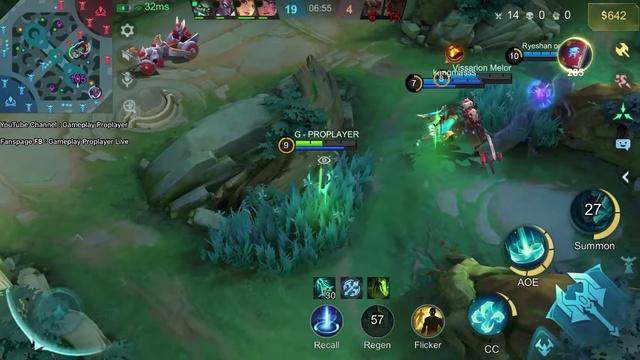Adc_Aliado: (88, 85, 102, 98)
Arbusto: (201, 153, 370, 274), (459, 84, 523, 133)
Esbirro_Enemigo: (154, 17, 198, 60), (138, 47, 158, 74)
Exp_Aliado: (75, 43, 86, 57)
HP_Aliado: (424, 80, 484, 84), (525, 51, 558, 57), (451, 74, 512, 77)
HP_Heroe_Principal: (295, 141, 356, 147)
Hechizo_Batalla: (411, 304, 444, 337)
Jungla_Aliado: (79, 41, 92, 54)
Mana: (423, 84, 484, 89), (295, 147, 358, 149)
Matilda: (417, 105, 458, 141)
Mid_Aliado: (70, 48, 79, 61)
Minimapa: (0, 0, 113, 114)
Skill1: (468, 293, 511, 335)
Skill2: (503, 225, 553, 274)
Terizla: (460, 97, 496, 161), (478, 150, 493, 172)
Vexana: (288, 162, 356, 243)
